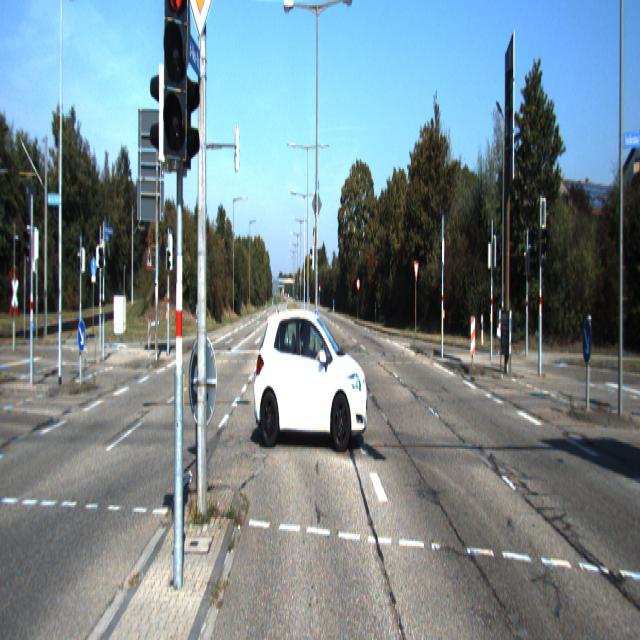Car: (250, 300, 368, 453)
